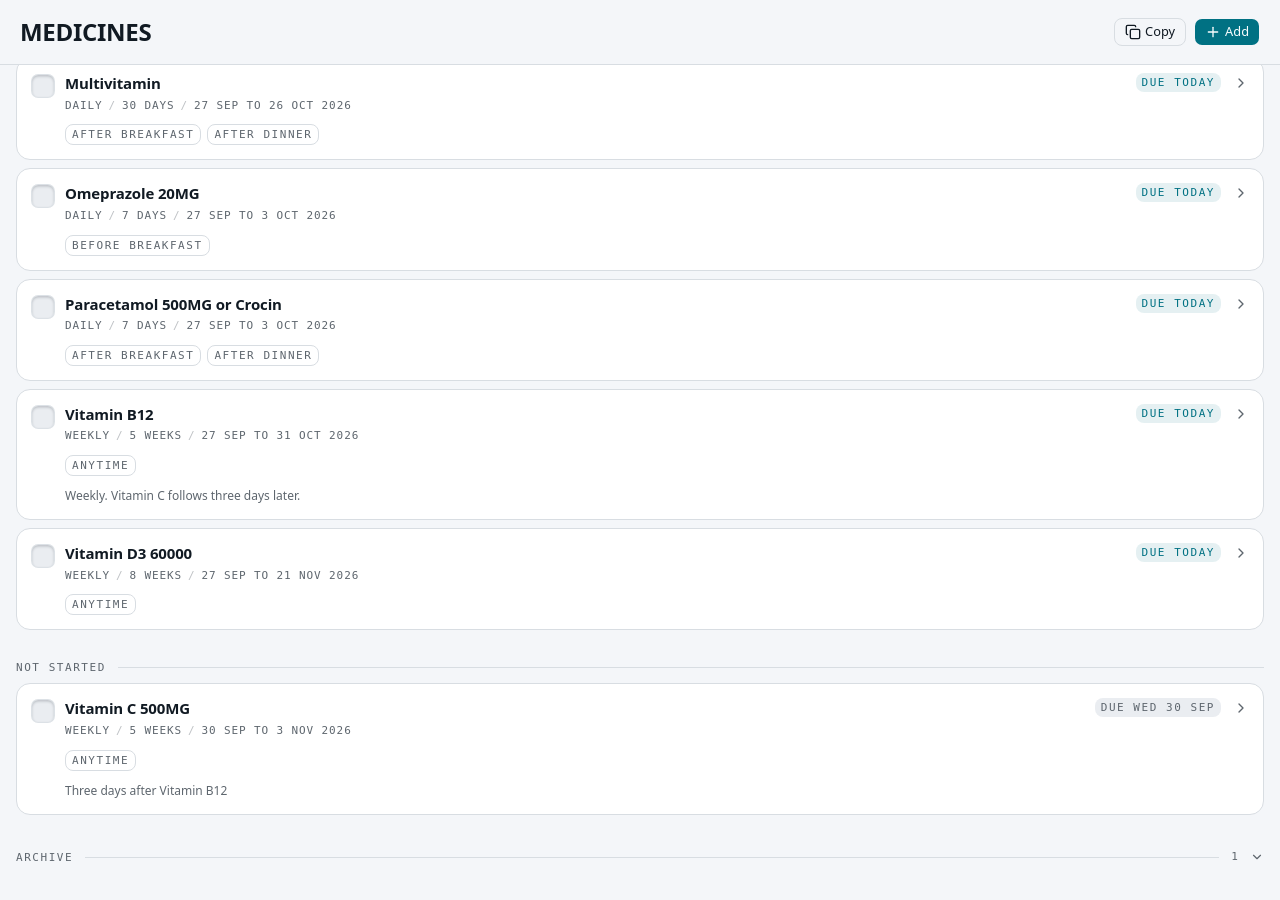
the Medicines screen › leaves the Archive open after a search when that is how it was left
(page scrolled)
Click the button "Archive 1" at [45, 857], box [16,847,1264,868]
(page scrolled)
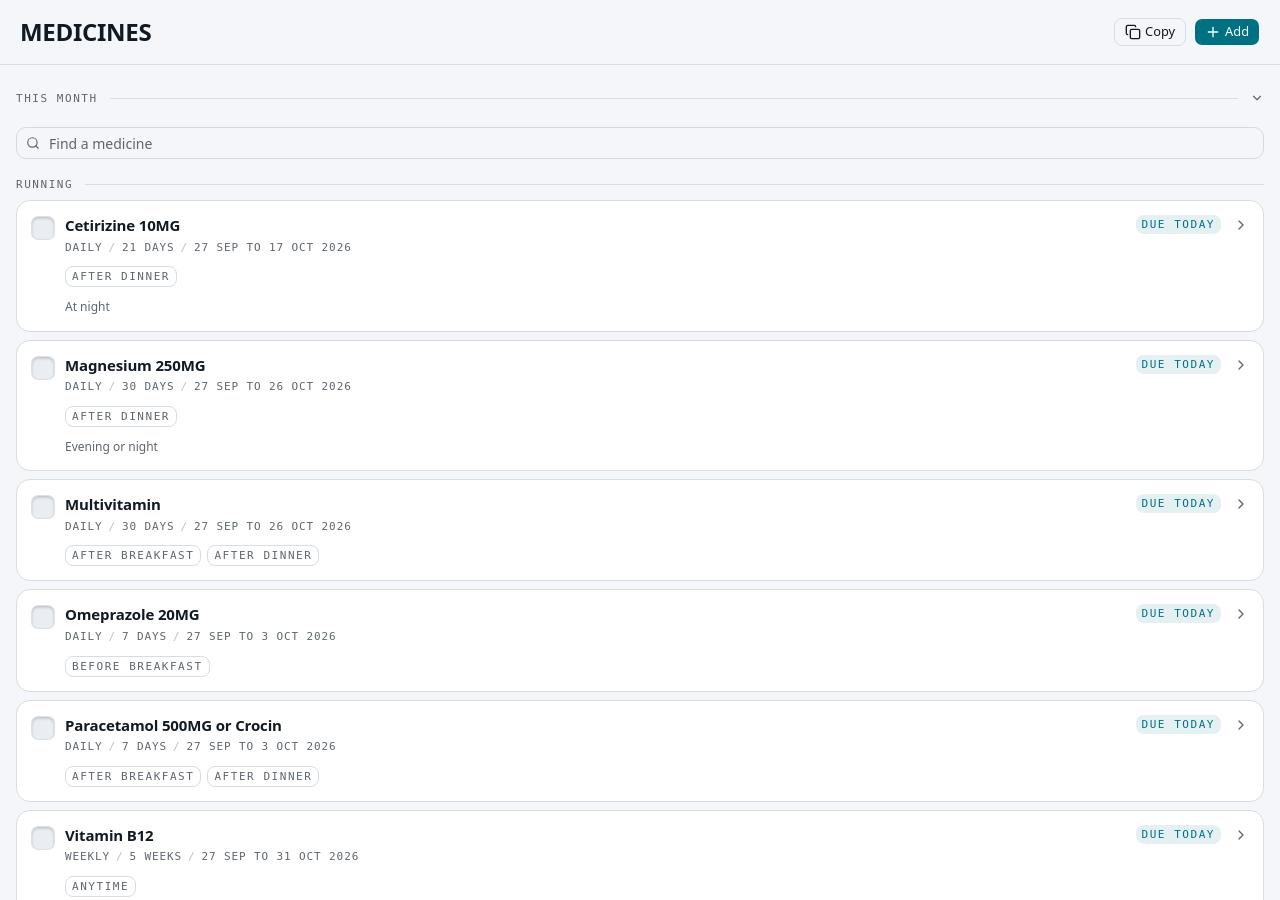
Type "vitamin" into the search field labelled "Find a medicine" at [640, 143], box [16,127,1264,159]
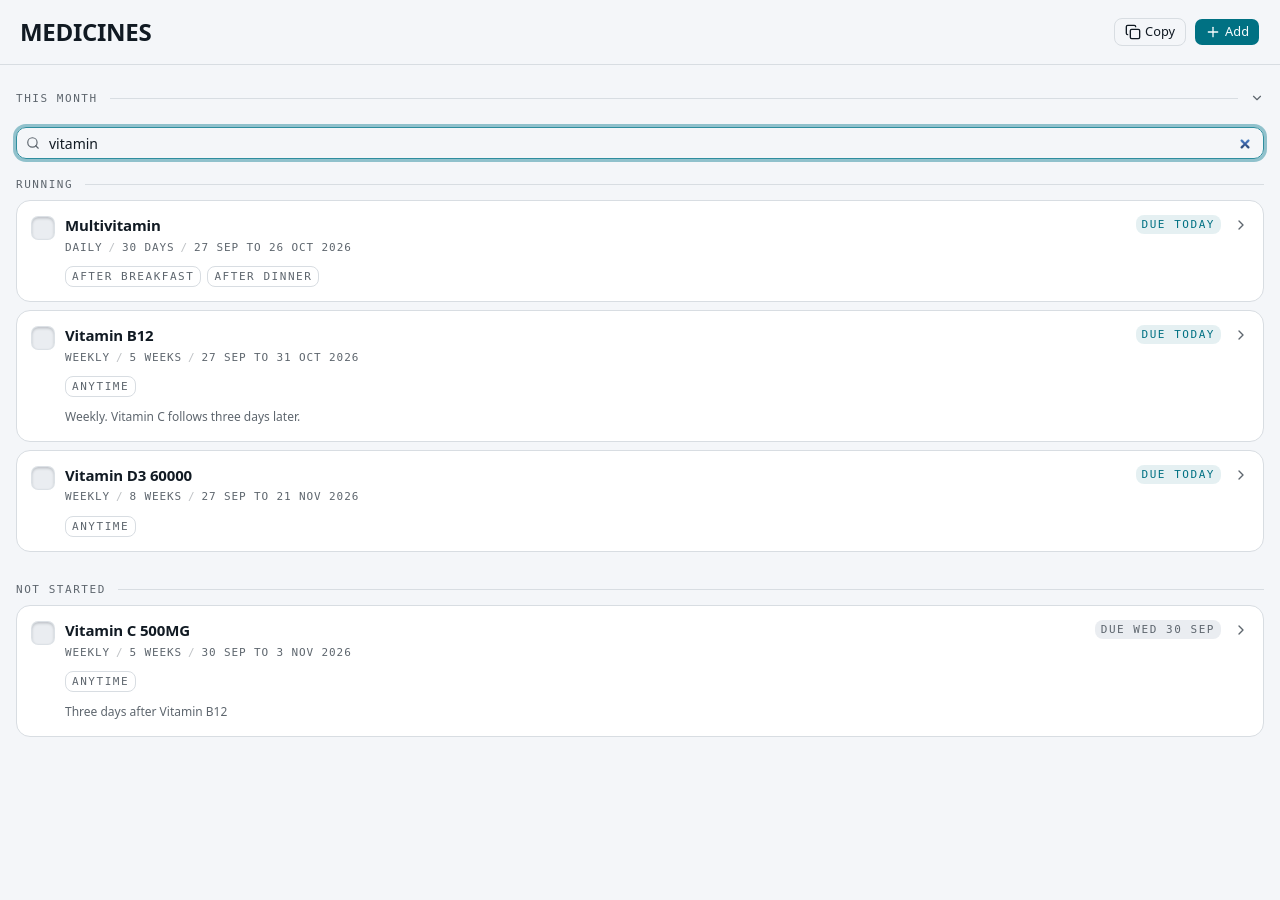
Clear the search field named "Find a medicine" at [640, 143], box [16,127,1264,159]
(page scrolled)
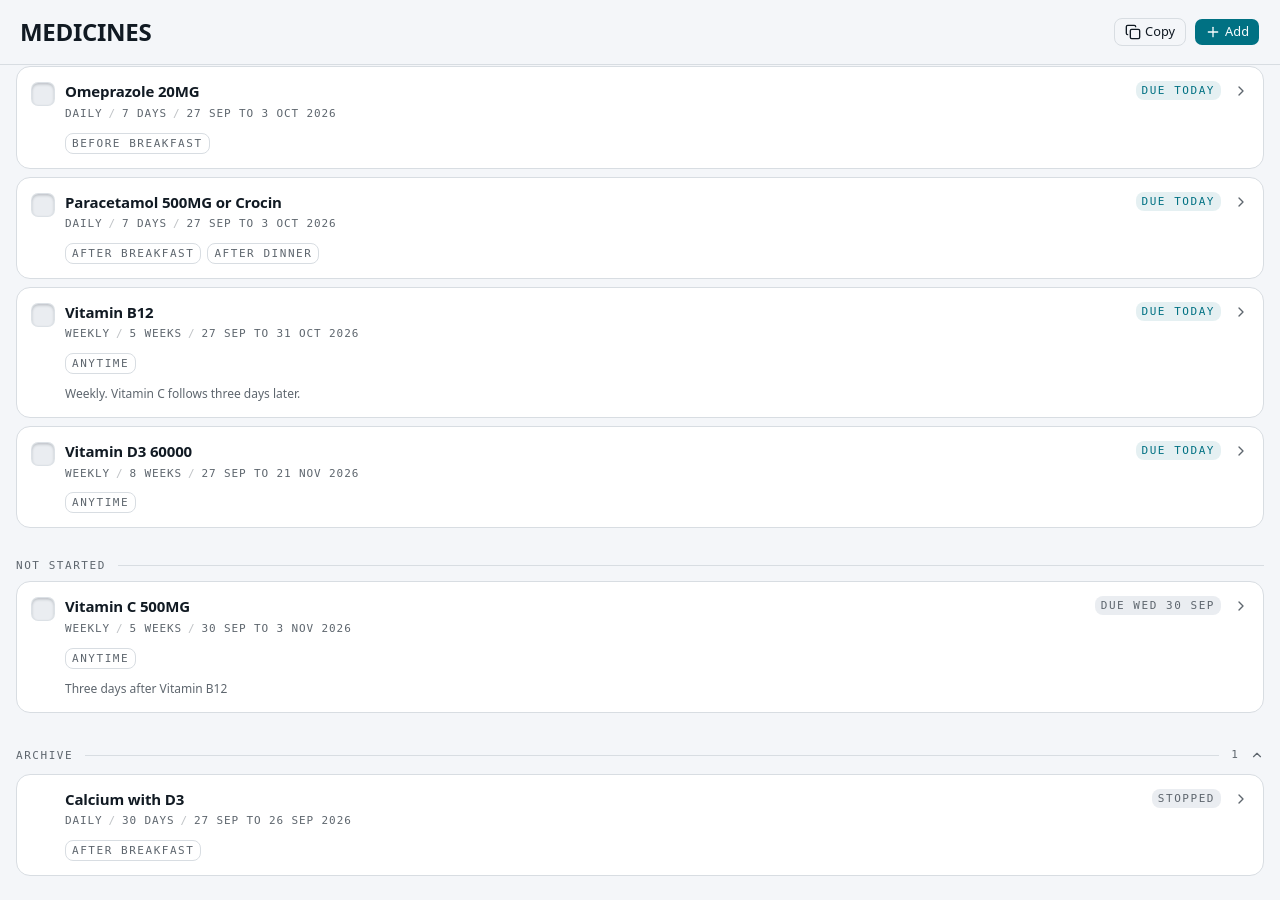
Check: the heading "Calcium with D3" is shown, box [65,788,184,808]
